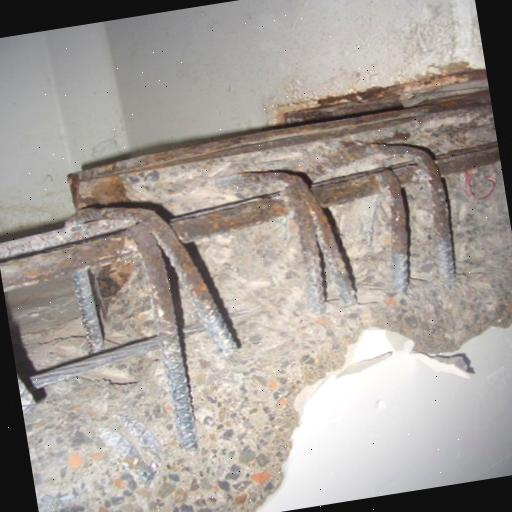spalling: (0, 97, 512, 512)
